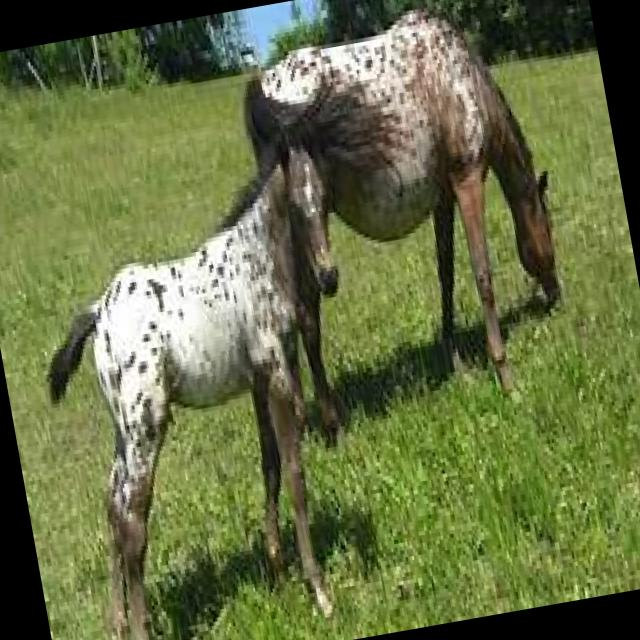animal: (13, 129, 402, 640), (236, 0, 592, 431)
